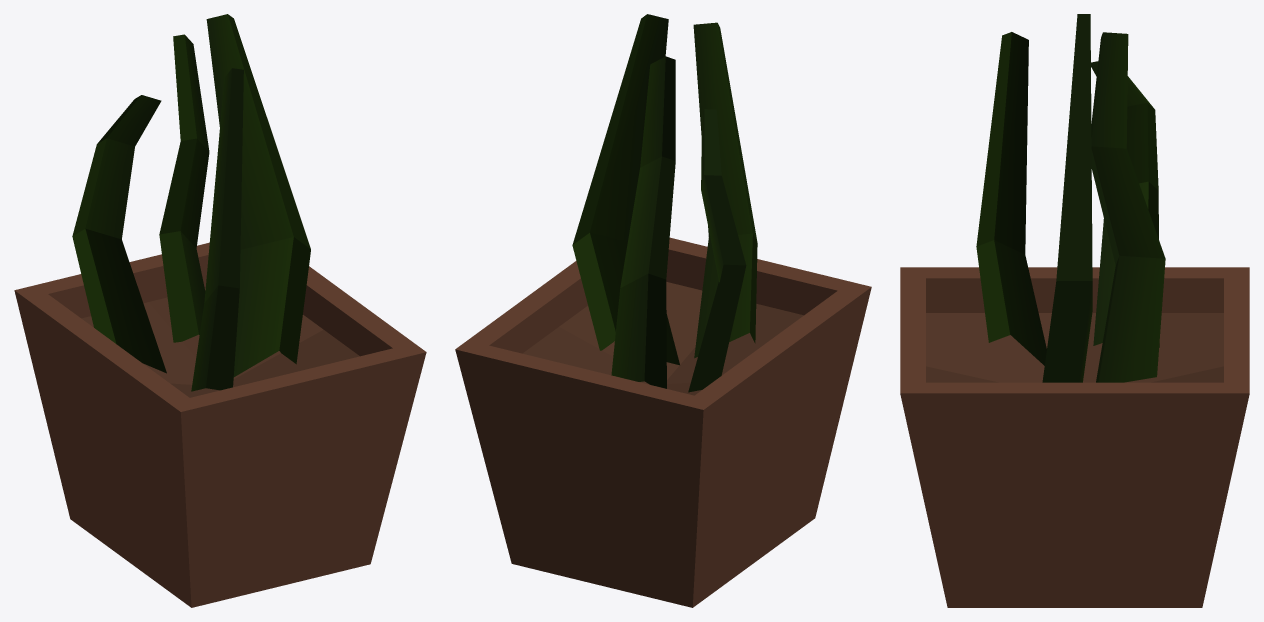
The model's file is PlantV3.fbx.
3 views of the same model, side by side, from view 1: azimuth 30°, elevation 25°; view 2: azimuth 150°, elevation 25°; view 3: azimuth 270°, elevation 25° (orthographic). The views are drawn at different scales.
Visible parts, largest first — view 1: PlantV3; view 2: PlantV3; view 3: PlantV3.
Boxes of the visible parts, bbox=[...] form: PlantV3: bbox=[14, 14, 426, 607]; PlantV3: bbox=[455, 14, 871, 607]; PlantV3: bbox=[900, 14, 1249, 607].
Size of the model in its own units: 6.59 by 13.29 by 7.73.
